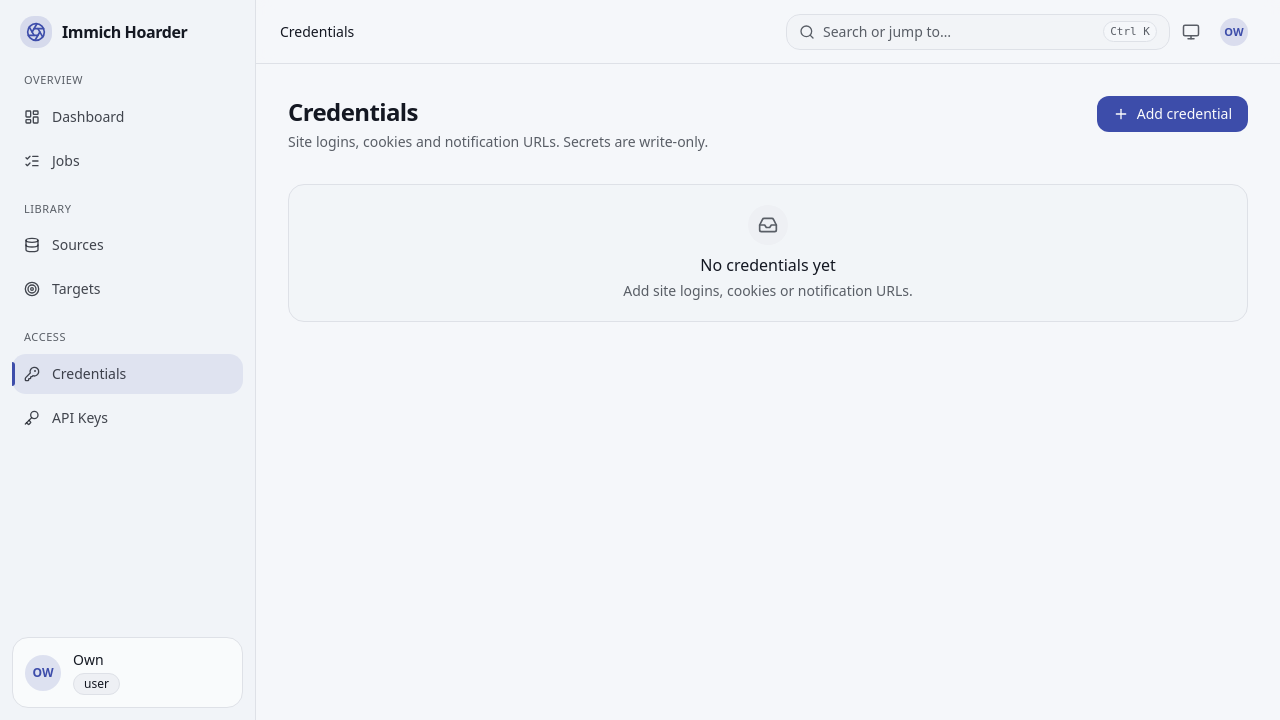
credentials › cookies kind uses textarea
Click the button "Add credential": click(1172, 114) [1097,96,1248,132]
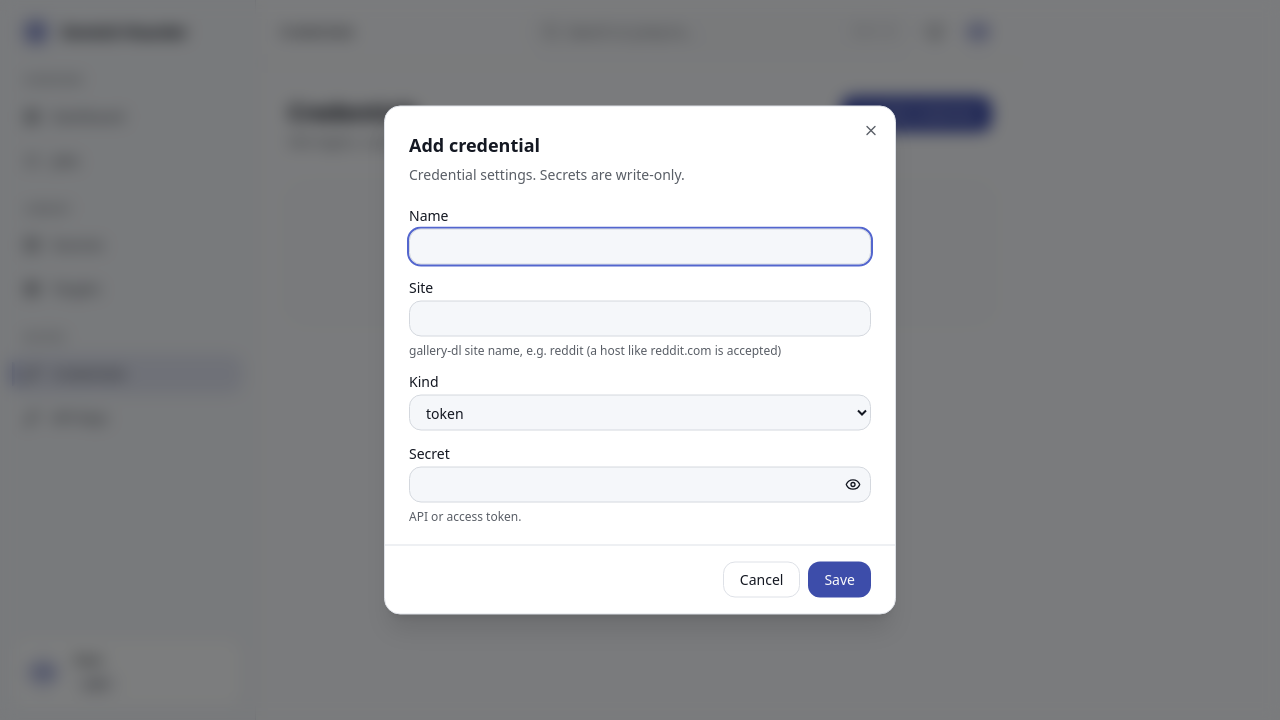
Select "cookies" in the dropdown labelled "Kind": (640, 412) [409,394,871,430]
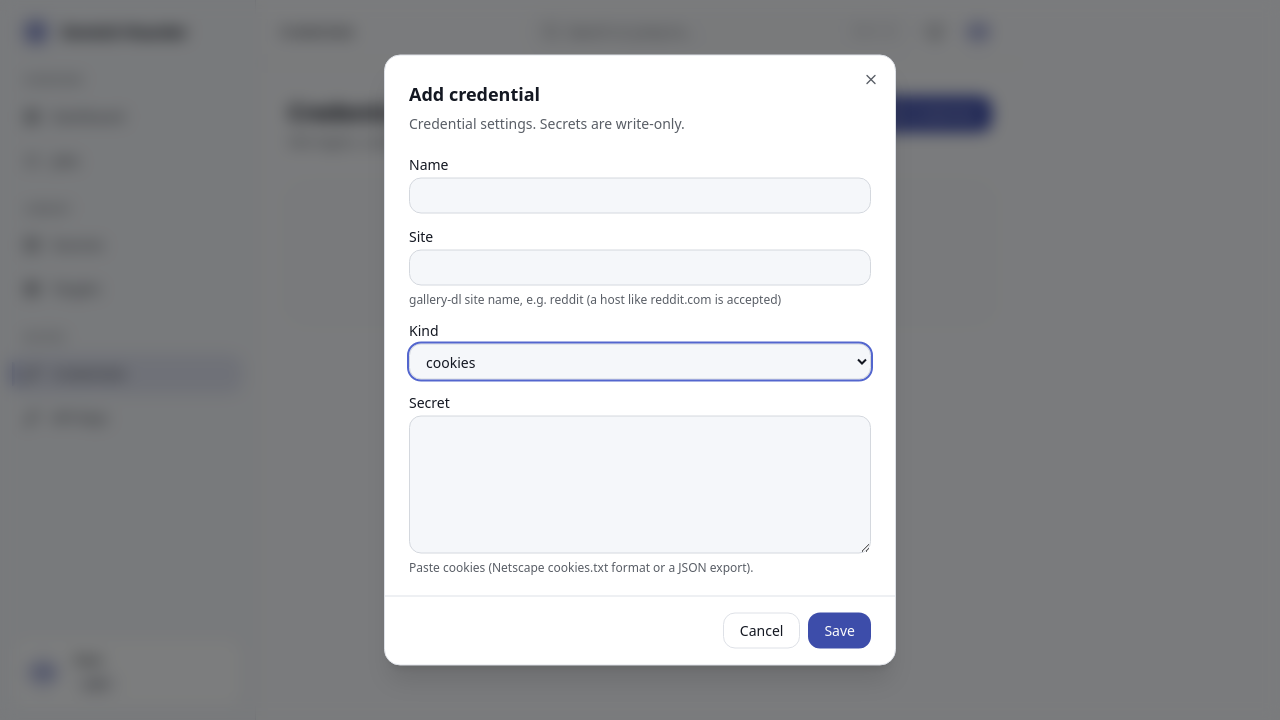
Select "apprise" in the dropdown labelled "Kind": (640, 362) [409,344,871,380]
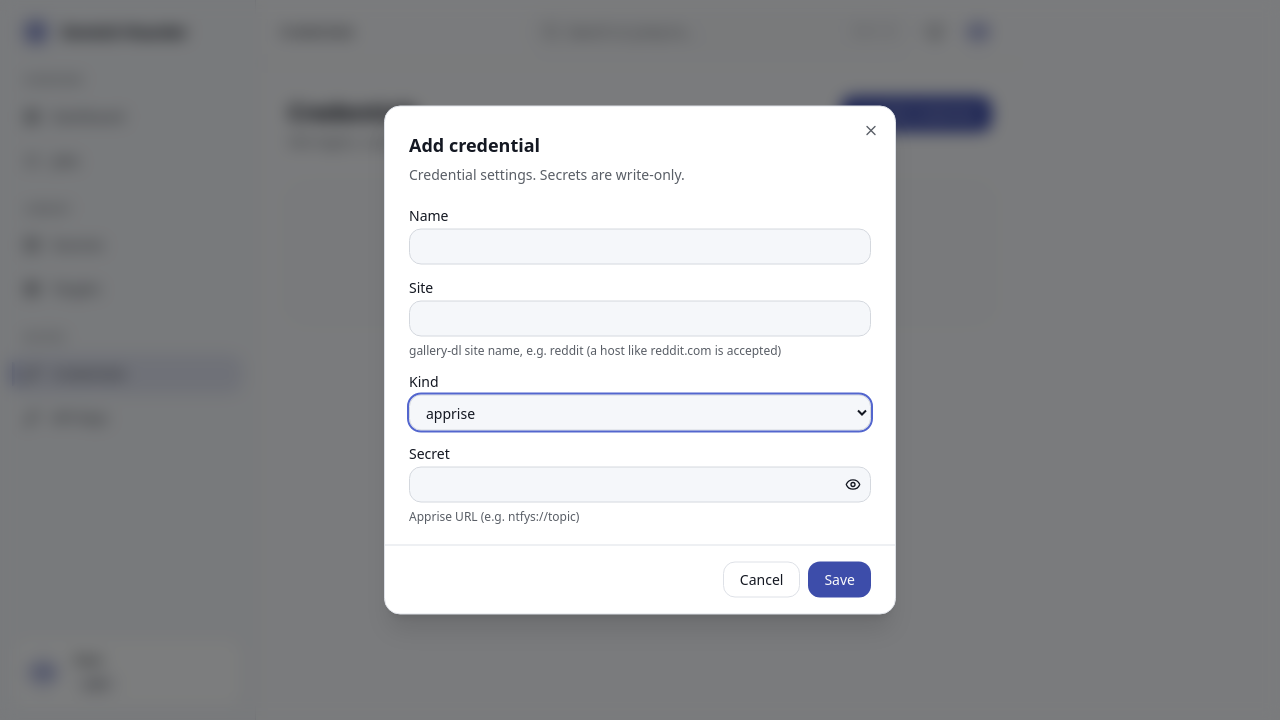
expect the text "Apprise URL (e.g. ntfys://topic)" is shown: met, box [409,508,579,524]
